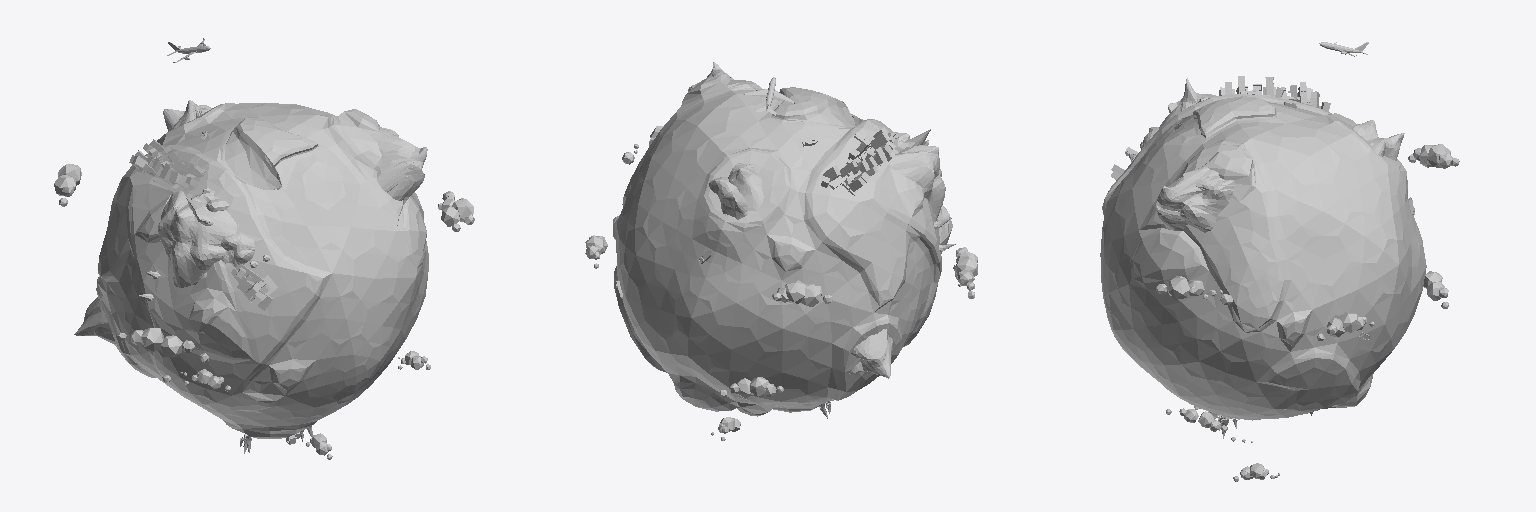
The model's file is earth.obj.
The picture shows the model from 3 angles: view 1: azimuth 30°, elevation 25°; view 2: azimuth 150°, elevation 25°; view 3: azimuth 270°, elevation 25°; orthographic projection.
Visible parts, largest first — view 1: Earth_body_Untitled.048, Mount_3_Untitled.145, Mount_7_Untitled.175, Mount_Untitled.012, Mount_4_Untitled.150, Mount_5_Untitled.252; view 2: Earth_body_Untitled.048, Mount_3_Untitled.145, Mount_Untitled.012, Mount_2_Untitled.017, Mount_6_Untitled.236; view 3: Earth_body_Untitled.048, Mount_7_Untitled.175, Mount_6_Untitled.236.
Boxes of the visible parts, x1=… form: Earth_body_Untitled.048: x1=96, y1=103, x2=428, y2=438; Mount_3_Untitled.145: x1=157, y1=191, x2=238, y2=287; Mount_7_Untitled.175: x1=371, y1=127, x2=427, y2=203; Mount_Untitled.012: x1=74, y1=297, x2=116, y2=345; Mount_4_Untitled.150: x1=221, y1=232, x2=255, y2=266; Mount_5_Untitled.252: x1=186, y1=188, x2=228, y2=225; Earth_body_Untitled.048: x1=613, y1=74, x2=952, y2=416; Mount_3_Untitled.145: x1=889, y1=139, x2=945, y2=220; Mount_Untitled.012: x1=849, y1=329, x2=892, y2=378; Mount_2_Untitled.017: x1=725, y1=163, x2=763, y2=215; Mount_6_Untitled.236: x1=709, y1=177, x2=747, y2=219; Earth_body_Untitled.048: x1=1100, y1=94, x2=1426, y2=420; Mount_7_Untitled.175: x1=1156, y1=165, x2=1234, y2=232; Mount_6_Untitled.236: x1=1369, y1=133, x2=1404, y2=160.
Size of the model in its own units: 110 by 122 by 99.28.